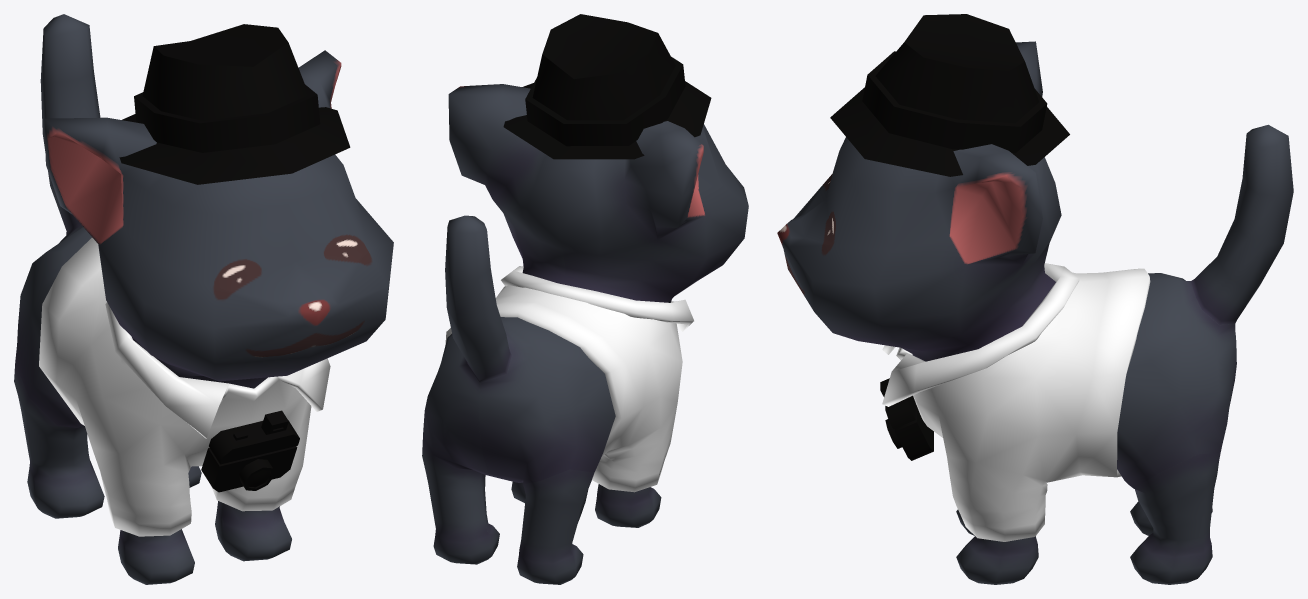
Rendered from Journalist Cat03.fbx.
3 renders of one model, left to right at view 1: azimuth 30°, elevation 25°; view 2: azimuth 150°, elevation 25°; view 3: azimuth 270°, elevation 25°, orthographic. The views are drawn at different scales.
Visible parts, largest first — view 1: Cat_Base002, Journalist_Cat_Shirt, Journalist_Cat_Hat, Journalist_Cat_Camera; view 2: Cat_Base002, Journalist_Cat_Hat, Journalist_Cat_Shirt; view 3: Cat_Base002, Journalist_Cat_Shirt, Journalist_Cat_Hat, Journalist_Cat_Camera.
Boxes of the visible parts, x1,y1,x2,y2 form: Cat_Base002: [14, 14, 393, 584]; Journalist_Cat_Shirt: [39, 237, 330, 536]; Journalist_Cat_Hat: [119, 24, 350, 184]; Journalist_Cat_Camera: [201, 410, 299, 492]; Cat_Base002: [422, 84, 748, 584]; Journalist_Cat_Hat: [503, 14, 711, 159]; Journalist_Cat_Shirt: [445, 266, 693, 492]; Cat_Base002: [777, 41, 1293, 584]; Journalist_Cat_Shirt: [882, 263, 1150, 541]; Journalist_Cat_Hat: [830, 14, 1069, 176]; Journalist_Cat_Camera: [880, 378, 933, 460].
Bounding box in the file's own units: 1.75 × 2.83 × 3.11.
Materials: 3 (1 with a texture image).
